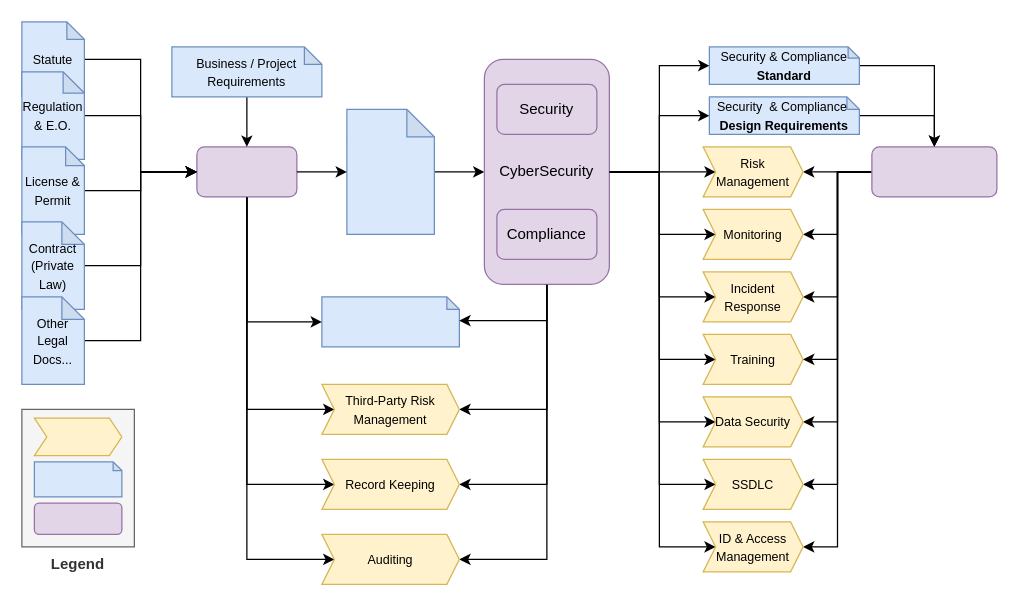
The diagram is 1019 pixels wide and 606 high, and some of its shapes have lost their labels. Here are the shapes that lost their labels. From the top down, the centre of each, then its label:
(x=246, y=171): Legal
(x=390, y=171): Legal Requirements
(x=934, y=171): R&D Engineering
(x=390, y=321): Security & Compliance Policy
(x=77, y=436): Joint Effort Process
(x=77, y=479): Documents
(x=77, y=518): Department
